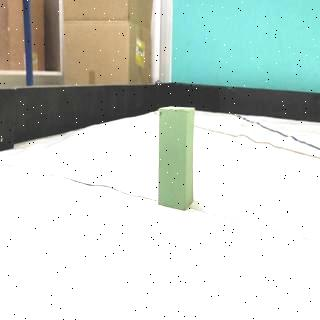greenbox: (158, 106, 196, 213)
